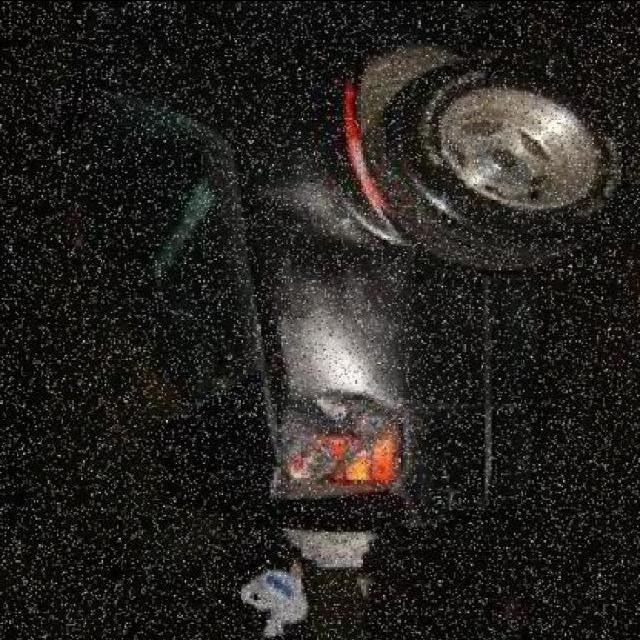quaterpanel-dent: (242, 126, 506, 420)
